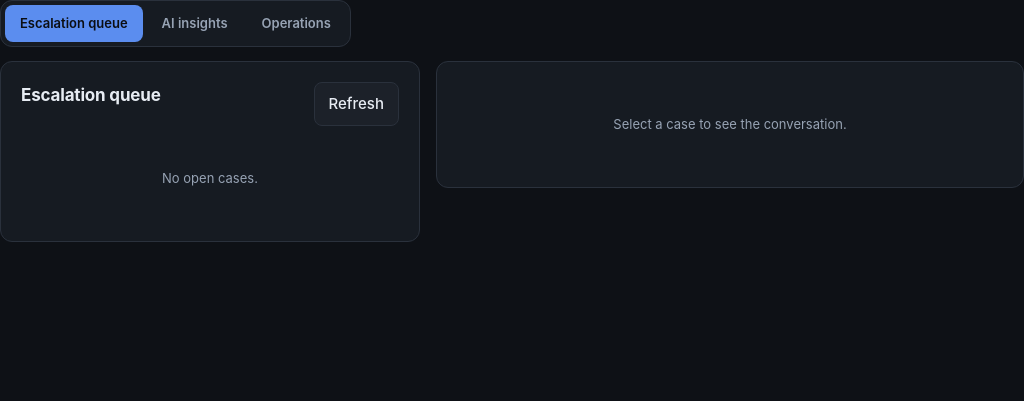
Test: AI insights › runs the analysis and records a decision
Click the tab "AI insights": (195,23) 147,5 -> 243,42
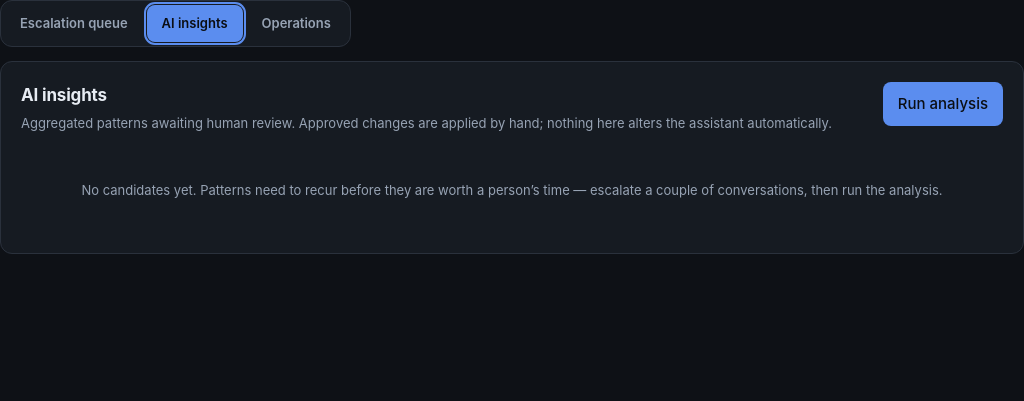
Result: the text "No candidates yet" is shown at 82,182 -> 942,198
Click the button "Run analysis": (943,104) 883,82 -> 1003,126
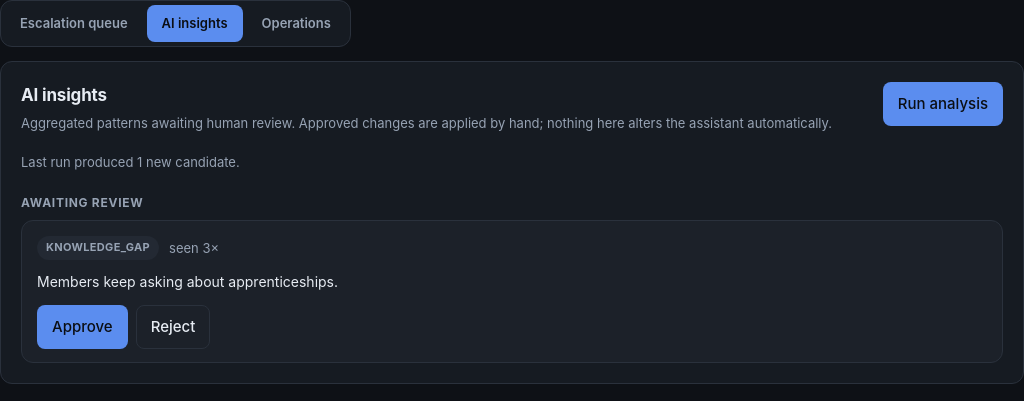
Result: the text "Last run produced 1 new candidate." is shown at 21,154 -> 240,170
Click the button "Approve": (82,327) 37,305 -> 128,349
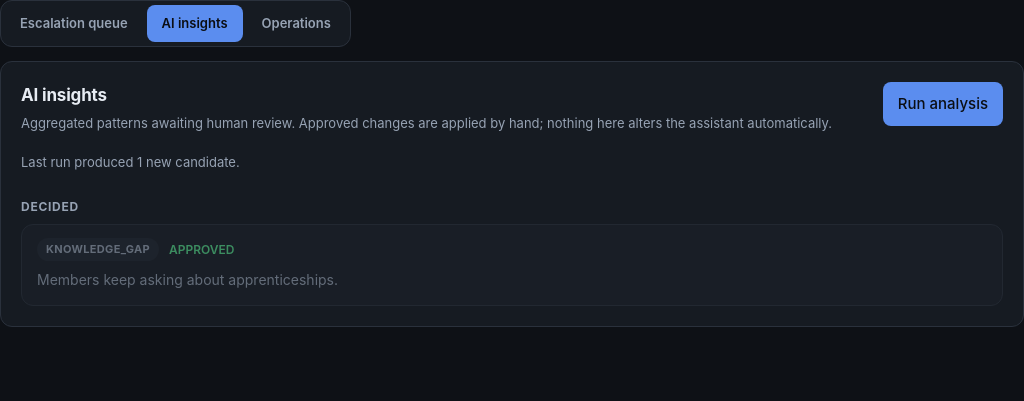
Result: the heading "Decided" is shown at 21,199 -> 79,214
